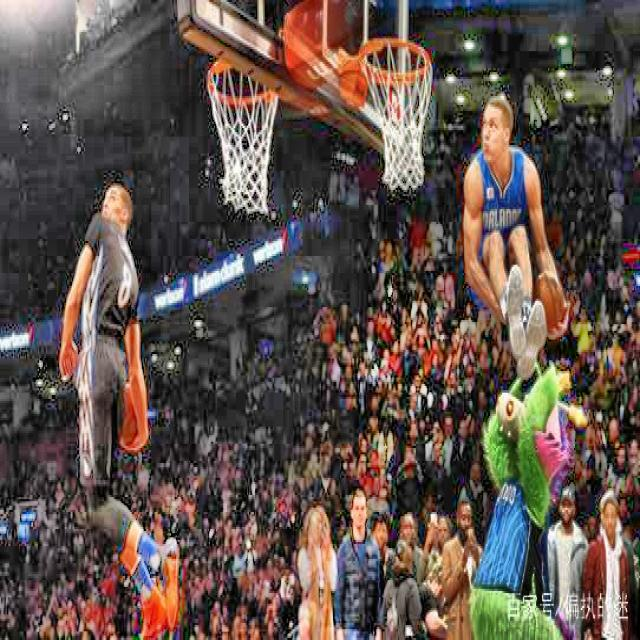rim: (208, 56, 280, 216), (362, 38, 432, 192)
